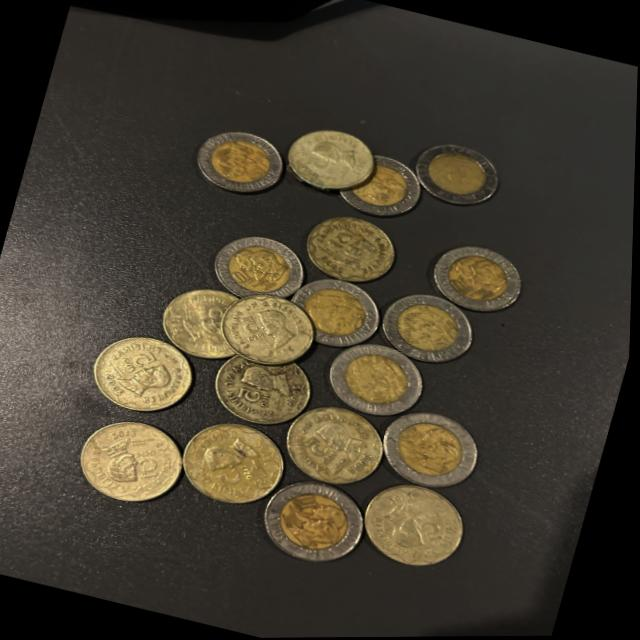5_Old_Front: (86, 326, 205, 421), (216, 283, 325, 371)
